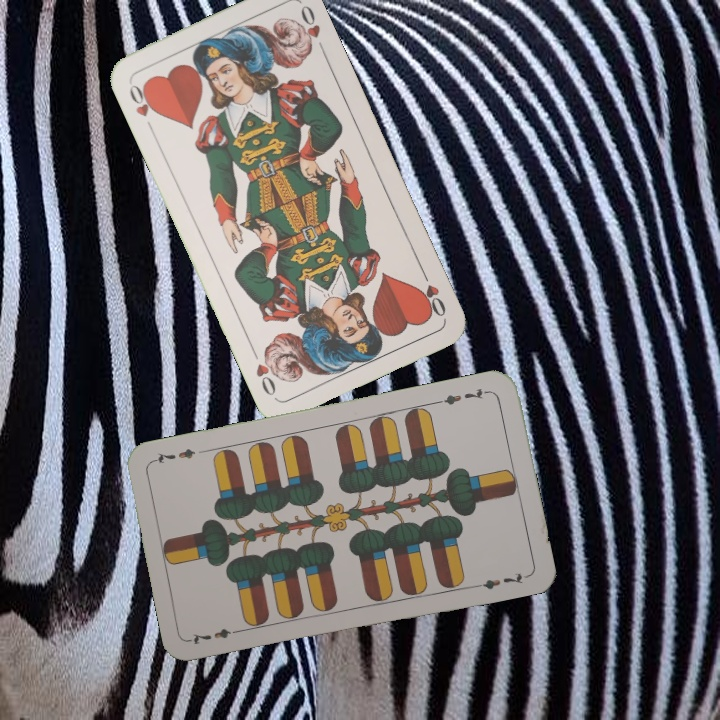E7: (434, 384, 493, 407), (187, 624, 246, 647)
HO: (415, 264, 449, 320), (125, 80, 160, 134)
